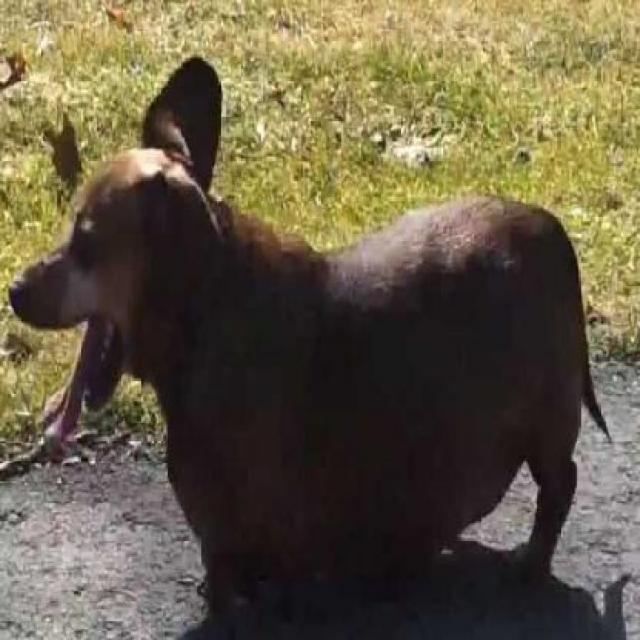Dog: (3, 57, 615, 638)
